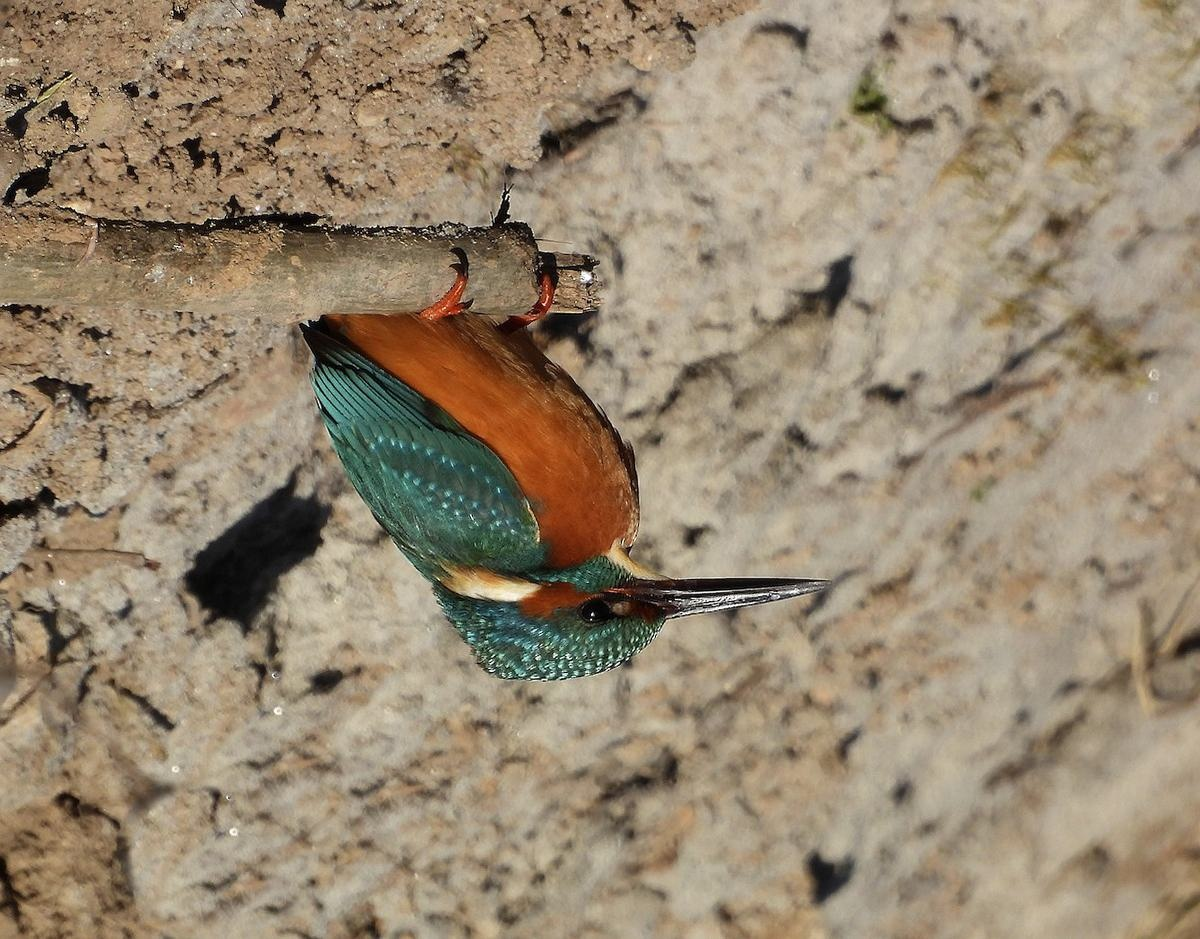kingfisher: (313, 269, 821, 697)
